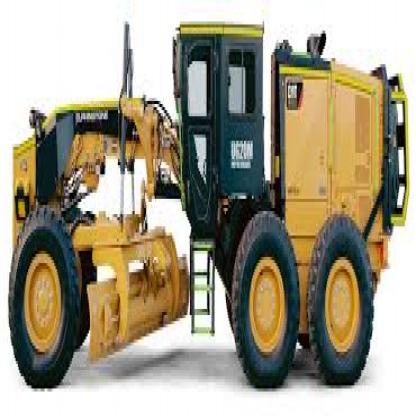bull_dozer/loader/grader: (10, 21, 410, 401)
